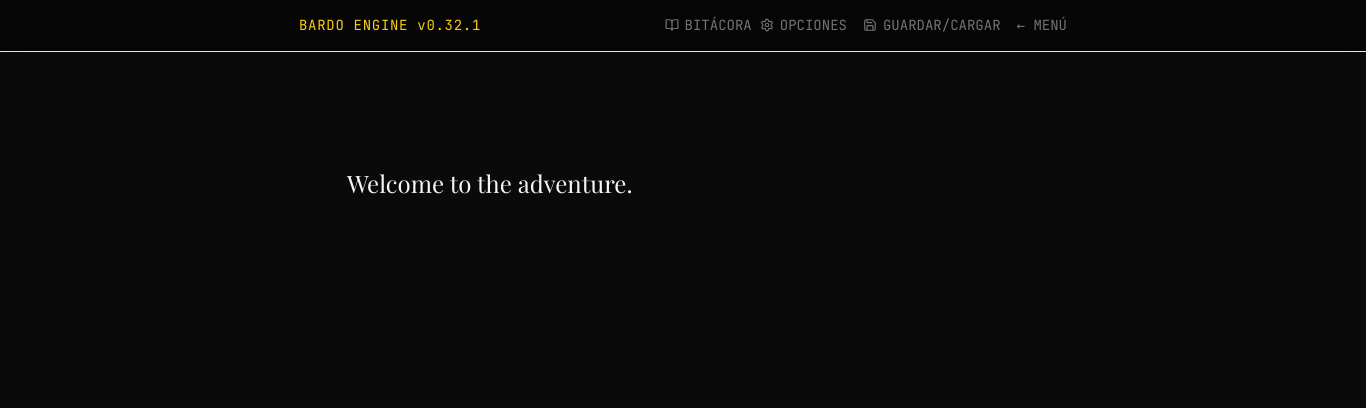
Test case: Player › end state › should show end state when story ended
Skip typewriter
Click the text "Welcome to the adventure." at (490,183), box left=347, top=167, right=632, bottom=199
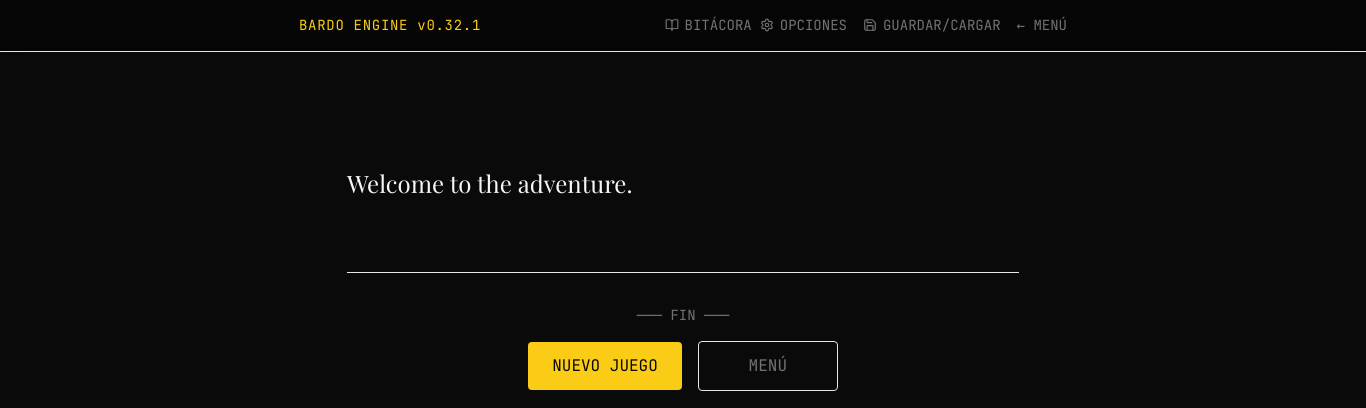
Expected: the button "NUEVO JUEGO" is shown, left=528, top=342, right=682, bottom=390
